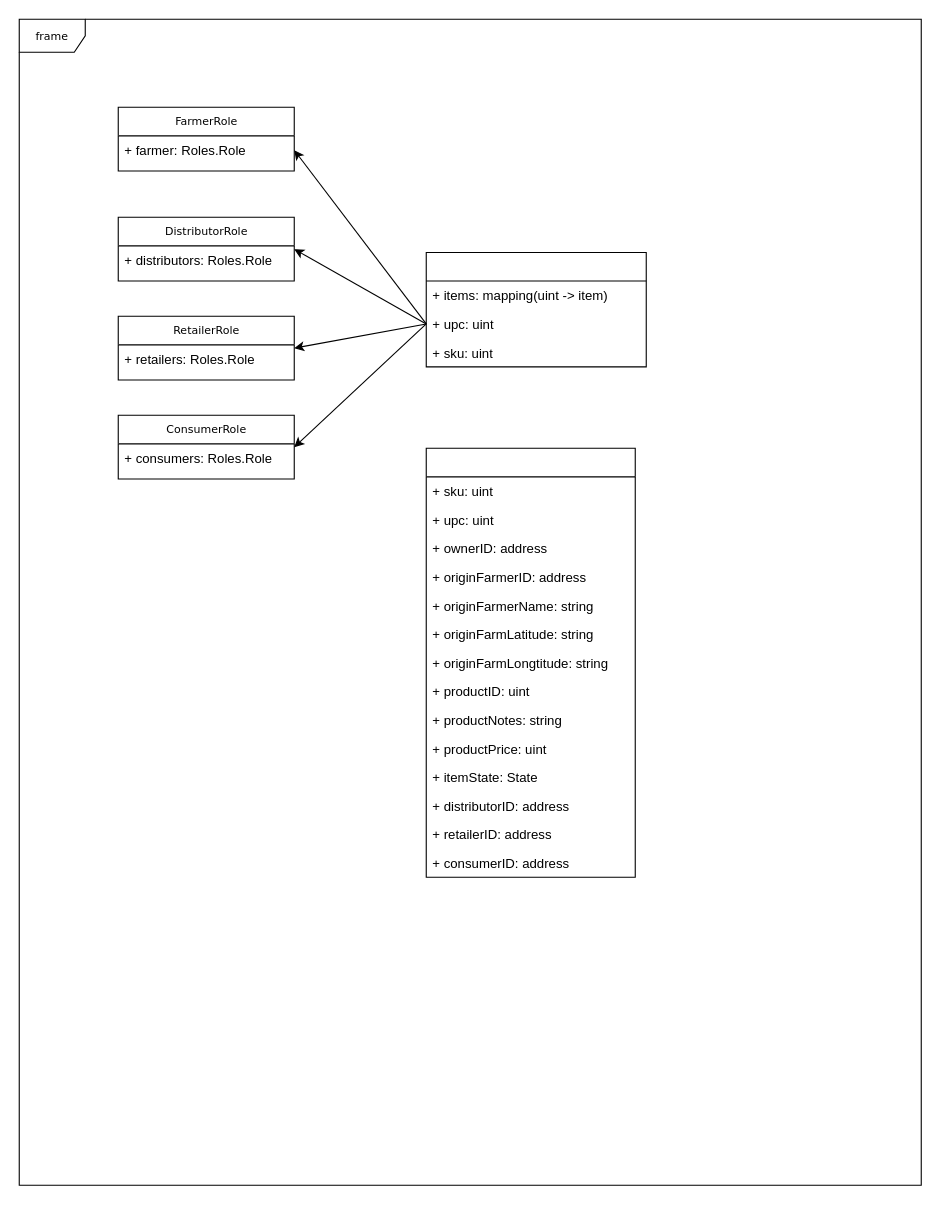
The diagram is 941 pixels wide and 1205 high, and some of its shapes have lost their labels. The box of each missing label's shape, as (x1, y1, x2, y2) in pixels:
[struct] item: (425, 447, 635, 877)
SuplyChain: (425, 251, 646, 367)
